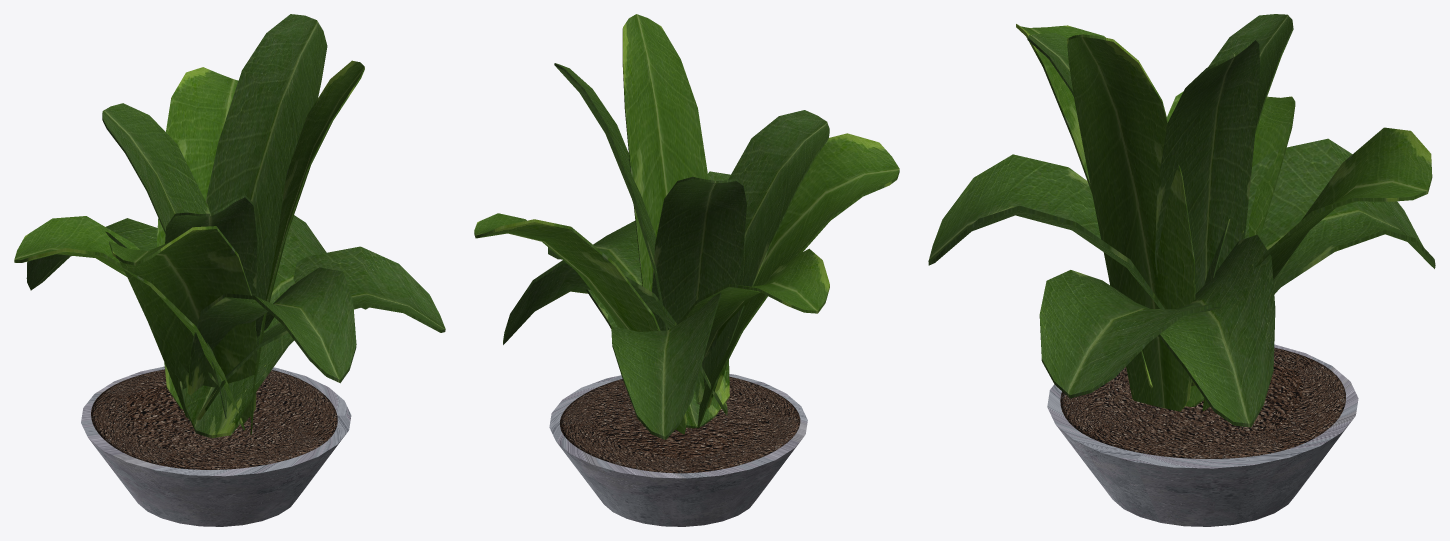
File: Plant2.fbx
3 views of the same model, side by side, from view 1: azimuth 30°, elevation 25°; view 2: azimuth 150°, elevation 25°; view 3: azimuth 270°, elevation 25° (orthographic). The views are drawn at different scales.
Parts seen in each view (by area): view 1: Plane008, Box001, Cone001, Plane006, Plane004, Plane010, Plane005, Plane003, Plane009, Plane011, Plane001, Plane007 (+1 smaller); view 2: Box001, Plane011, Cone001, Plane010, Plane006, Plane007, Plane002, Plane003, Plane001, Plane009, Plane005, Plane008 (+1 smaller); view 3: Plane011, Cone001, Box001, Plane008, Plane009, Plane005, Plane002, Plane004, Plane003, Plane001, Plane010, Plane006 (+1 smaller).
Part boxes in pixels (x1=…): Plane008: x1=205, y1=14, x2=327, y2=337; Box001: x1=91, y1=369, x2=337, y2=469; Cone001: x1=81, y1=366, x2=351, y2=526; Plane006: x1=109, y1=226, x2=257, y2=423; Plane004: x1=187, y1=267, x2=356, y2=395; Plane010: x1=102, y1=103, x2=240, y2=435; Plane005: x1=188, y1=246, x2=445, y2=420; Plane003: x1=157, y1=67, x2=238, y2=409; Plane009: x1=179, y1=215, x2=368, y2=438; Plane011: x1=250, y1=60, x2=364, y2=434; Plane001: x1=14, y1=216, x2=244, y2=430; Plane007: x1=165, y1=195, x2=257, y2=388; Box001: x1=560, y1=376, x2=800, y2=473; Plane011: x1=622, y1=14, x2=708, y2=291; Cone001: x1=549, y1=374, x2=807, y2=526; Plane010: x1=652, y1=176, x2=746, y2=330; Plane006: x1=697, y1=133, x2=899, y2=428; Plane007: x1=702, y1=110, x2=829, y2=408; Plane002: x1=611, y1=292, x2=721, y2=439; Plane003: x1=474, y1=213, x2=687, y2=434; Plane001: x1=676, y1=248, x2=829, y2=360; Plane009: x1=503, y1=260, x2=727, y2=415; Plane005: x1=548, y1=221, x2=729, y2=428; Plane008: x1=554, y1=63, x2=668, y2=330; Plane011: x1=1067, y1=34, x2=1195, y2=411; Cone001: x1=1047, y1=344, x2=1358, y2=526; Box001: x1=1060, y1=347, x2=1345, y2=458; Plane008: x1=1155, y1=38, x2=1260, y2=293; Plane009: x1=1158, y1=234, x2=1275, y2=427; Plane005: x1=1039, y1=270, x2=1222, y2=398; Plane002: x1=1191, y1=138, x2=1435, y2=386; Plane004: x1=928, y1=154, x2=1164, y2=309; Plane003: x1=1202, y1=127, x2=1432, y2=410; Plane001: x1=1167, y1=91, x2=1295, y2=406; Plane010: x1=1182, y1=14, x2=1293, y2=409; Plane006: x1=1016, y1=24, x2=1152, y2=388.
Bounding box in the file's own units: 99.47 × 120 × 109.
Materials: 4 (4 with a texture image).
